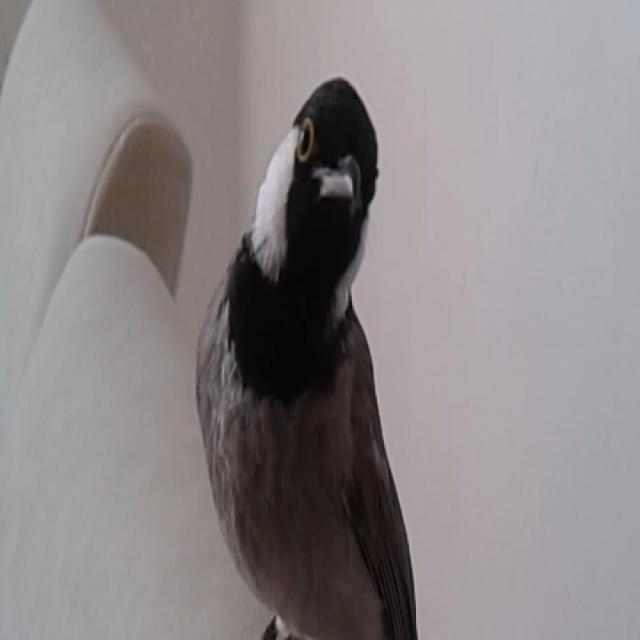bird: (192, 70, 432, 634)
